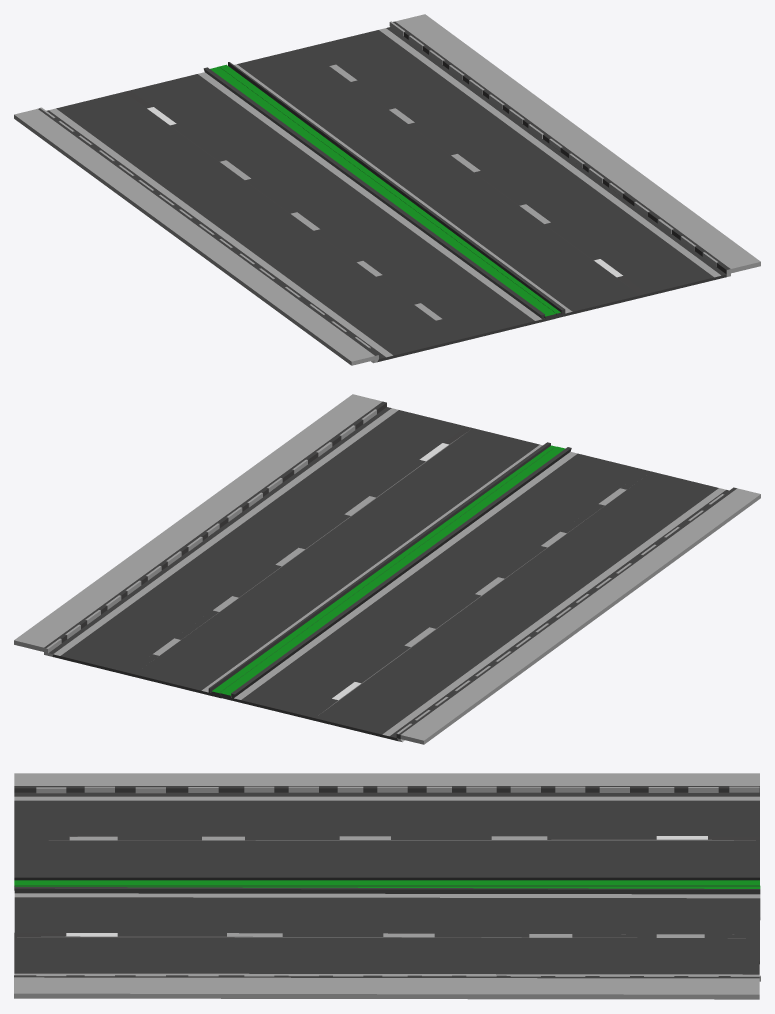
Rendered from road.fbx.
3 renders of one model, top to bottom at view 1: azimuth 30°, elevation 25°; view 2: azimuth 150°, elevation 25°; view 3: azimuth 270°, elevation 25°, orthographic. The views are drawn at different scales.
Parts seen in each view (by area): view 1: polySurface4; view 2: polySurface4; view 3: polySurface4.
Part boxes in pixels (bbox=[...]): polySurface4: bbox=[14, 14, 760, 365]; polySurface4: bbox=[14, 394, 760, 744]; polySurface4: bbox=[14, 773, 760, 999].
Bounding box in the file's own units: 18.59 × 0.3199 × 26.51.
